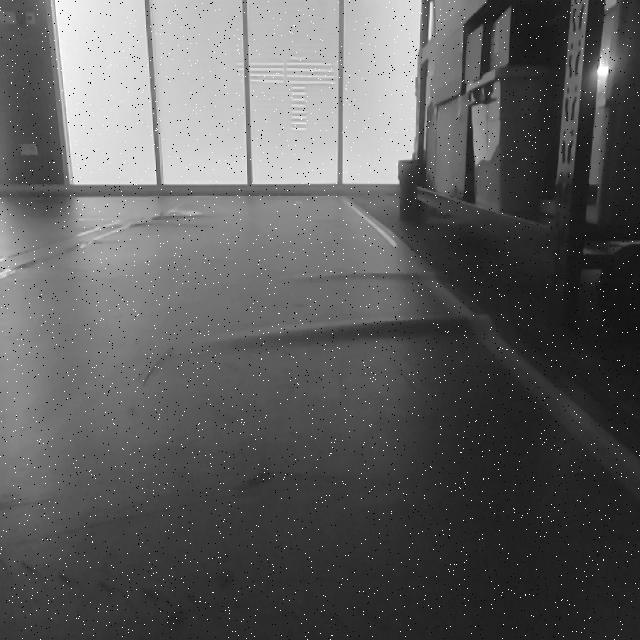left_lane: (0, 200, 261, 500)
right_lane: (341, 197, 638, 493)
